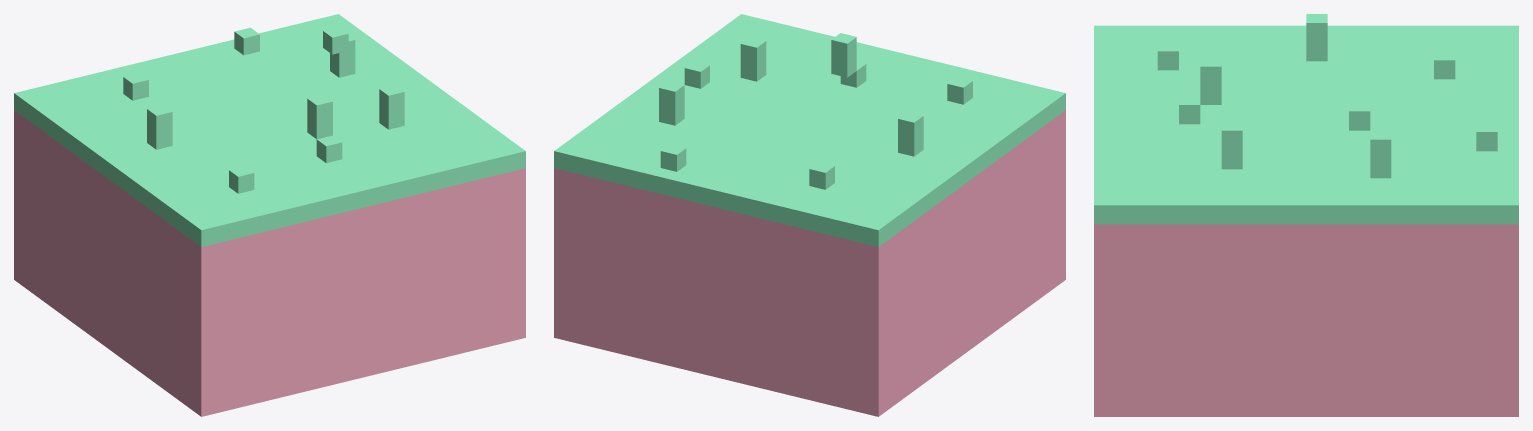
Rendered from GroundGrass.obj.
The picture shows the model from 3 angles, left to right: view 1: azimuth 30°, elevation 25°; view 2: azimuth 150°, elevation 25°; view 3: azimuth 270°, elevation 25°; orthographic projection. The views are drawn at different scales.
Bounding box in the file's own units: 2 × 1.4 × 2.
